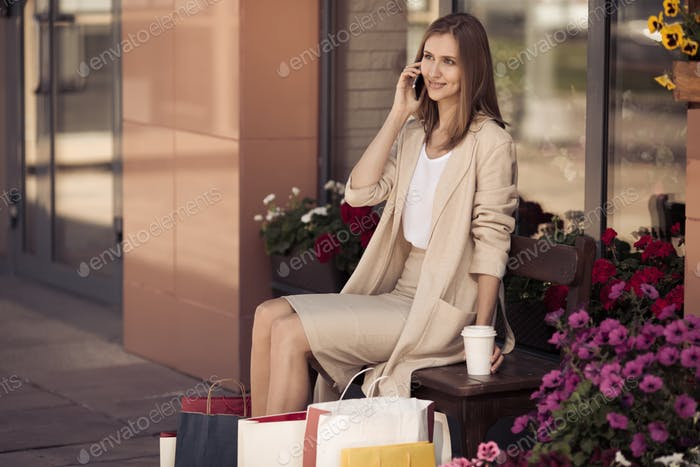phone: (398, 61, 427, 109)
talk: (390, 47, 463, 119)
